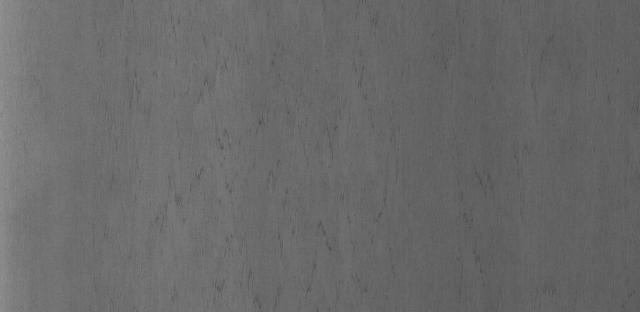silk_spot: (135, 41, 602, 312)
